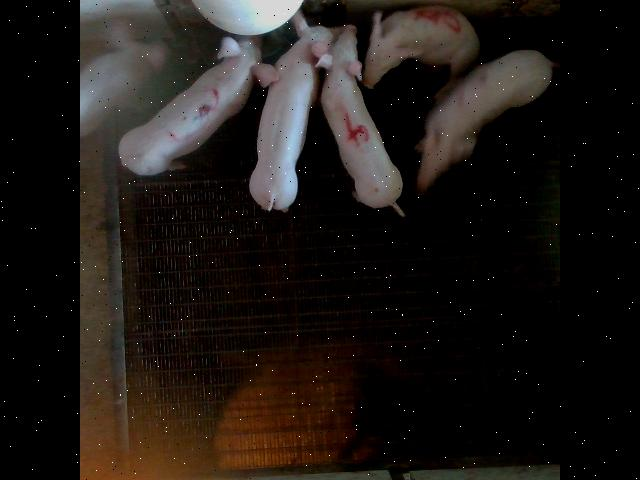pig-2: (416, 49, 552, 192)
pig-3: (119, 36, 279, 174)
pig-4: (318, 25, 405, 215)
pig-5: (363, 6, 479, 88)
